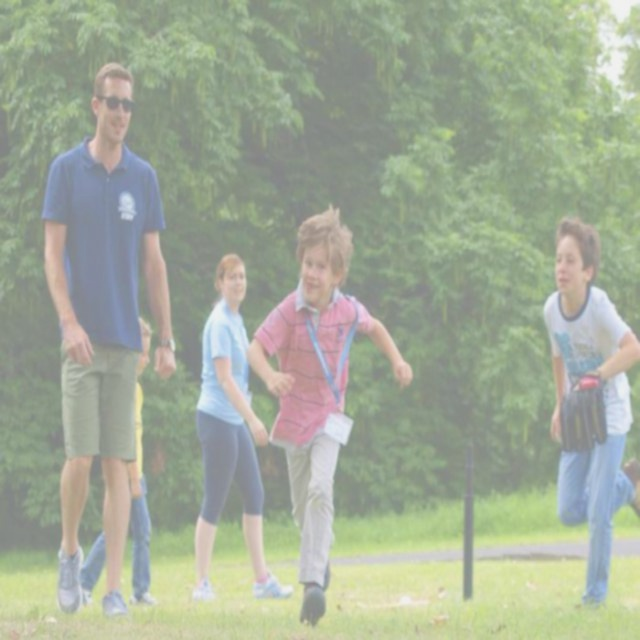pessoa: (39, 61, 178, 615), (246, 203, 414, 627), (540, 215, 639, 614), (188, 252, 297, 604), (78, 317, 160, 607)
